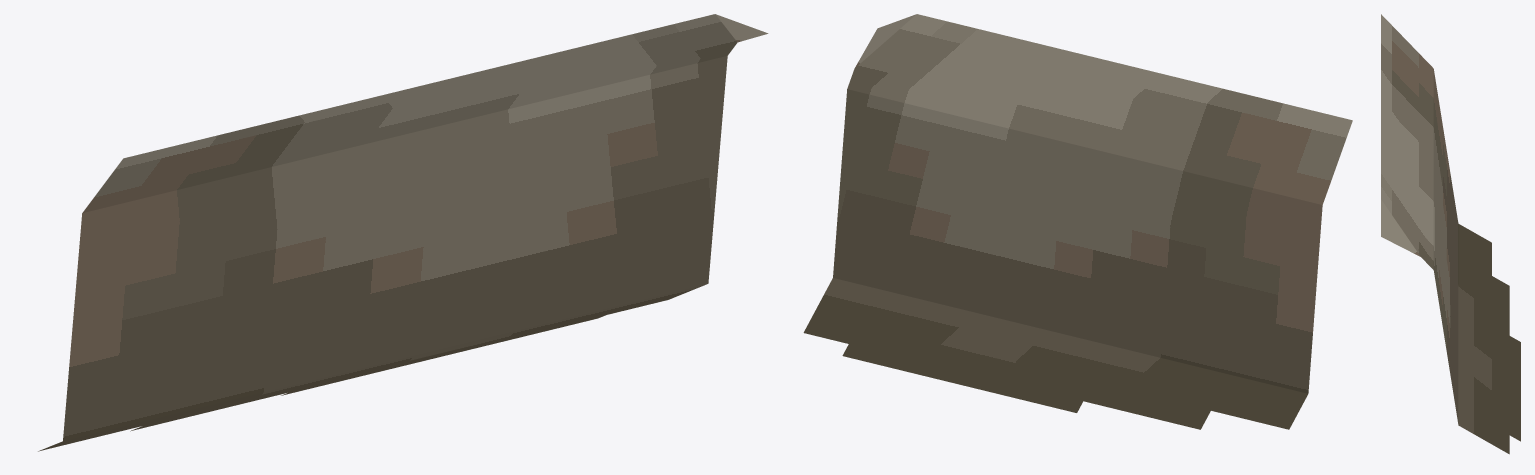
3 renders of one model, left to right at view 1: azimuth 30°, elevation 25°; view 2: azimuth 150°, elevation 25°; view 3: azimuth 270°, elevation 25°, orthographic. The views are drawn at different scales.
Size of the model in its own units: 1 by 0.5662 by 0.293.
Materials: 1 (1 with a texture image).
